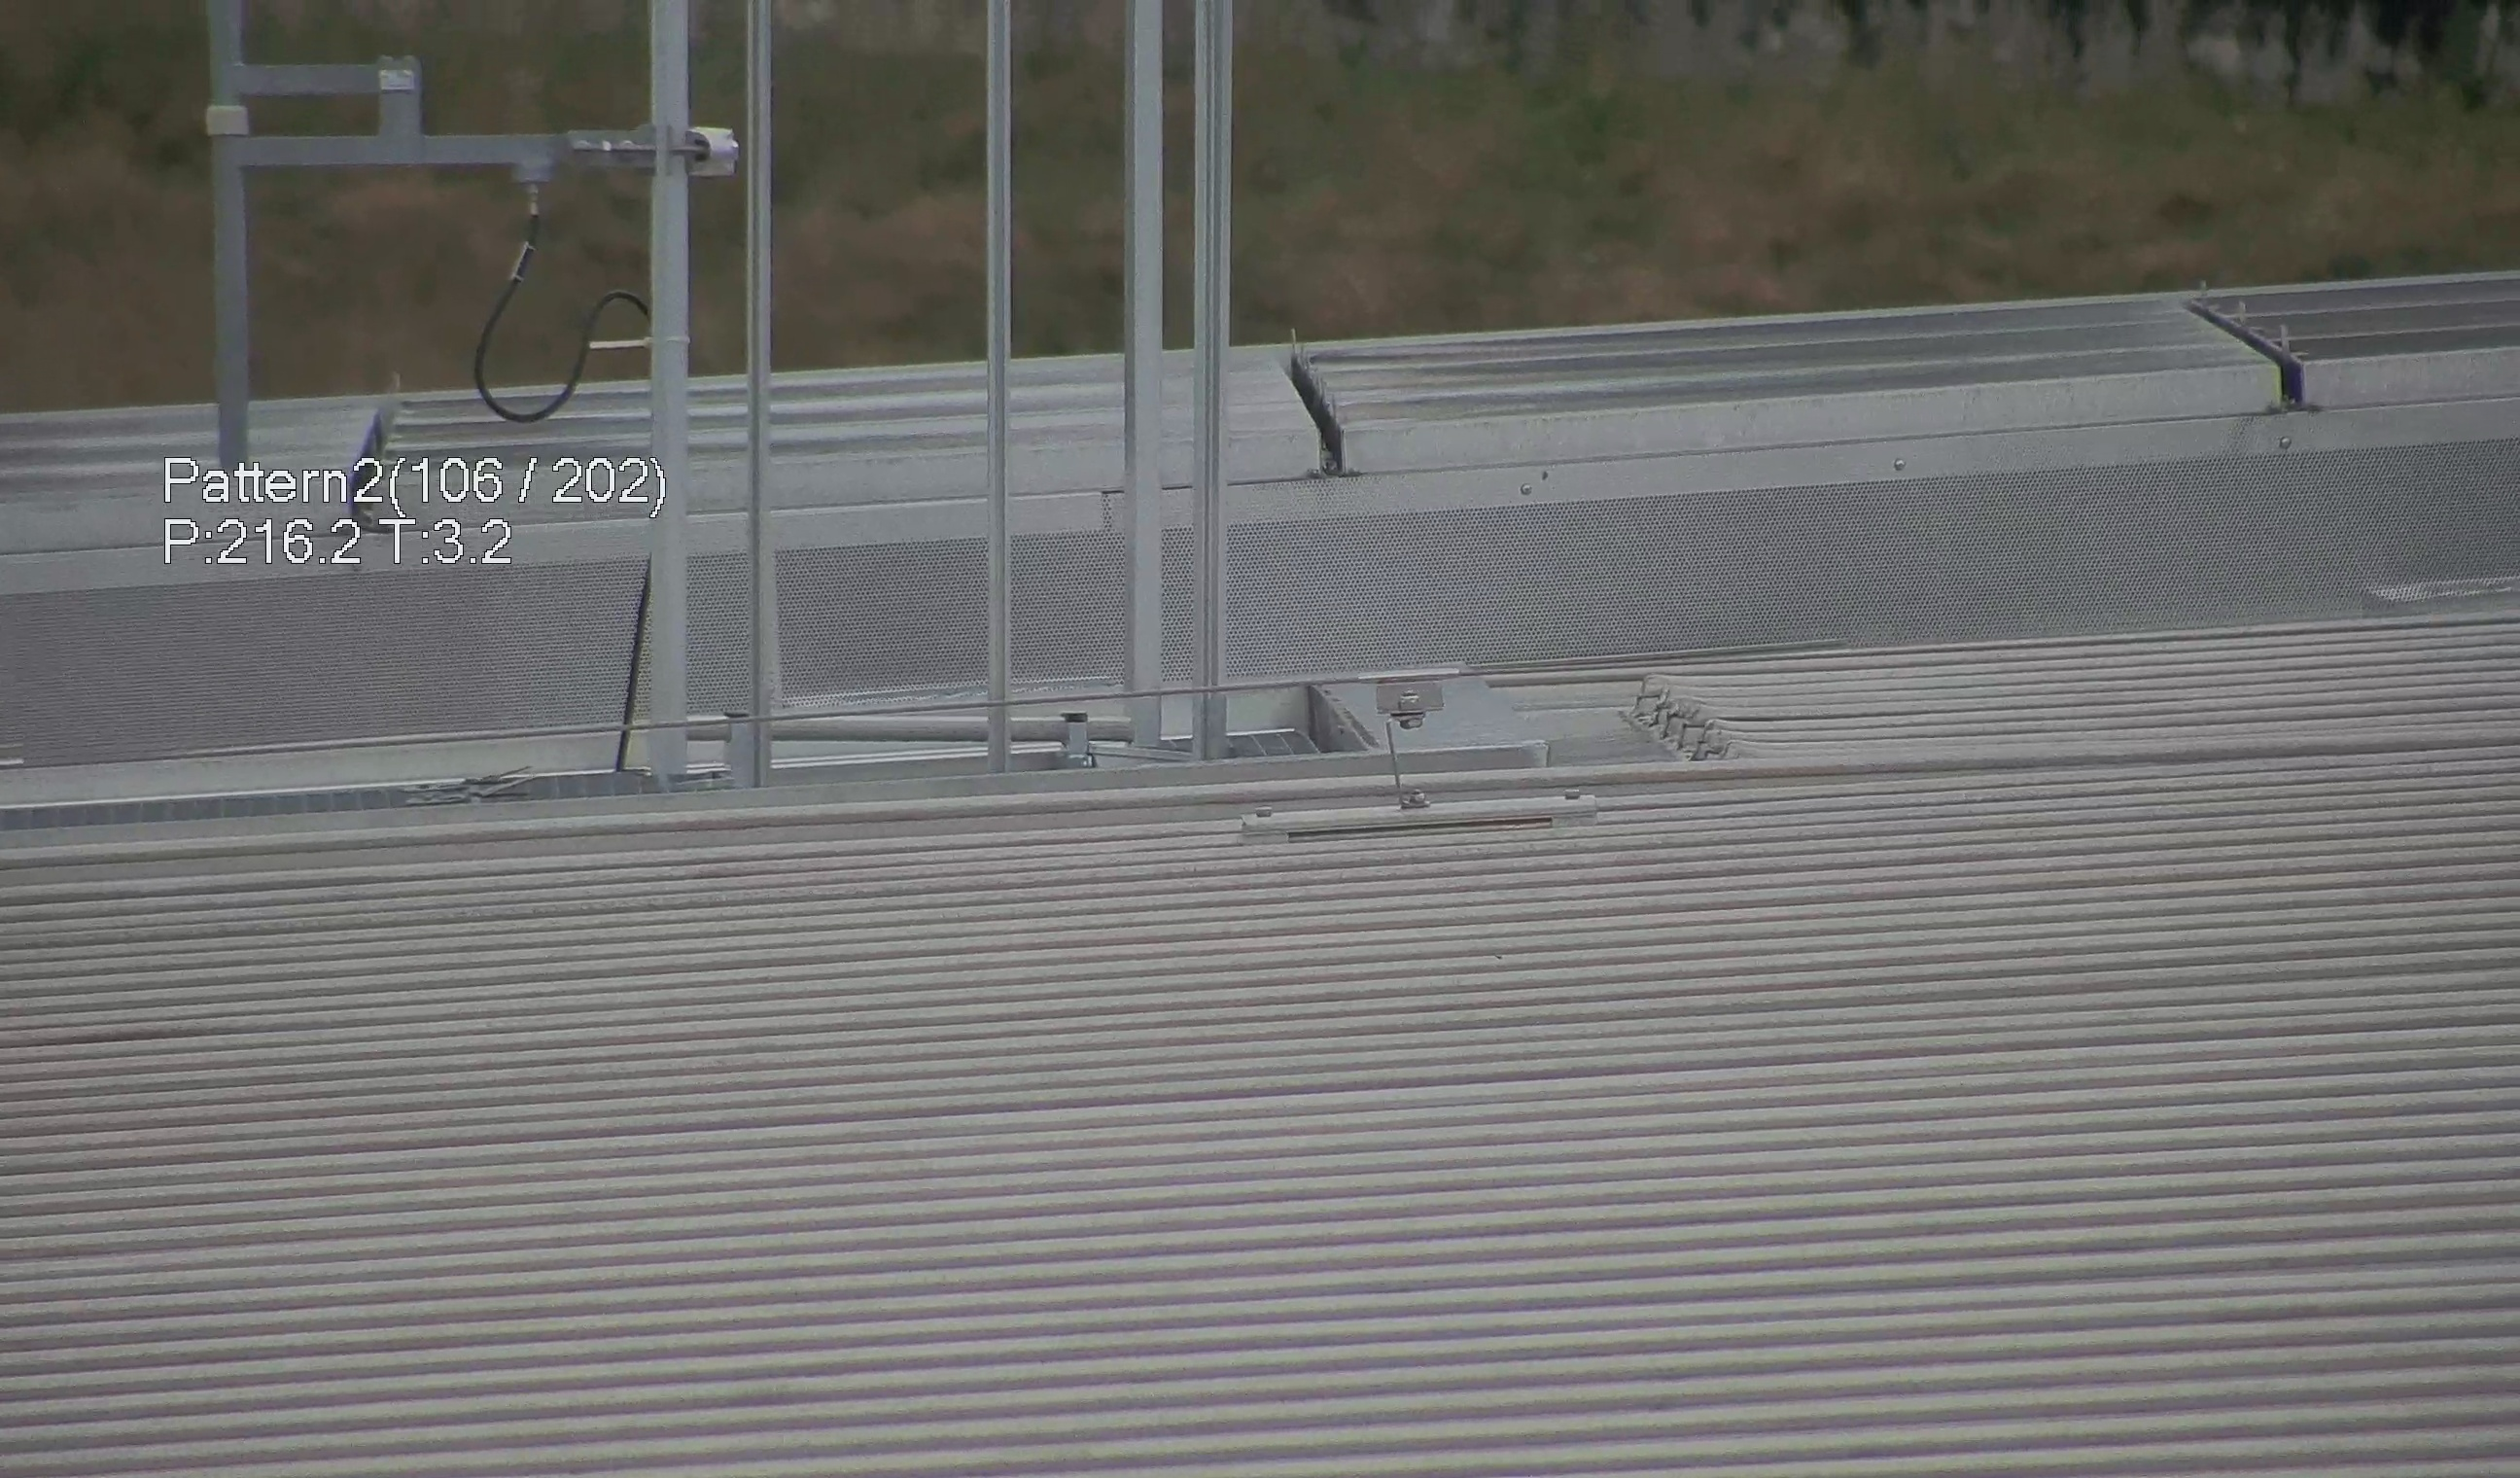Other: (1256, 315, 1363, 484)
